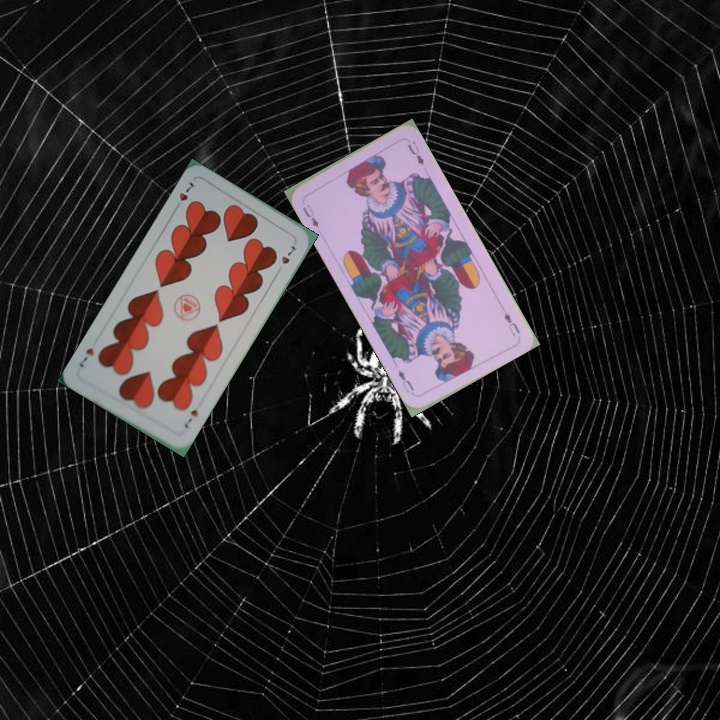EU: (500, 308, 523, 339), (298, 200, 321, 230)
H7: (170, 177, 196, 213), (180, 405, 201, 431)
